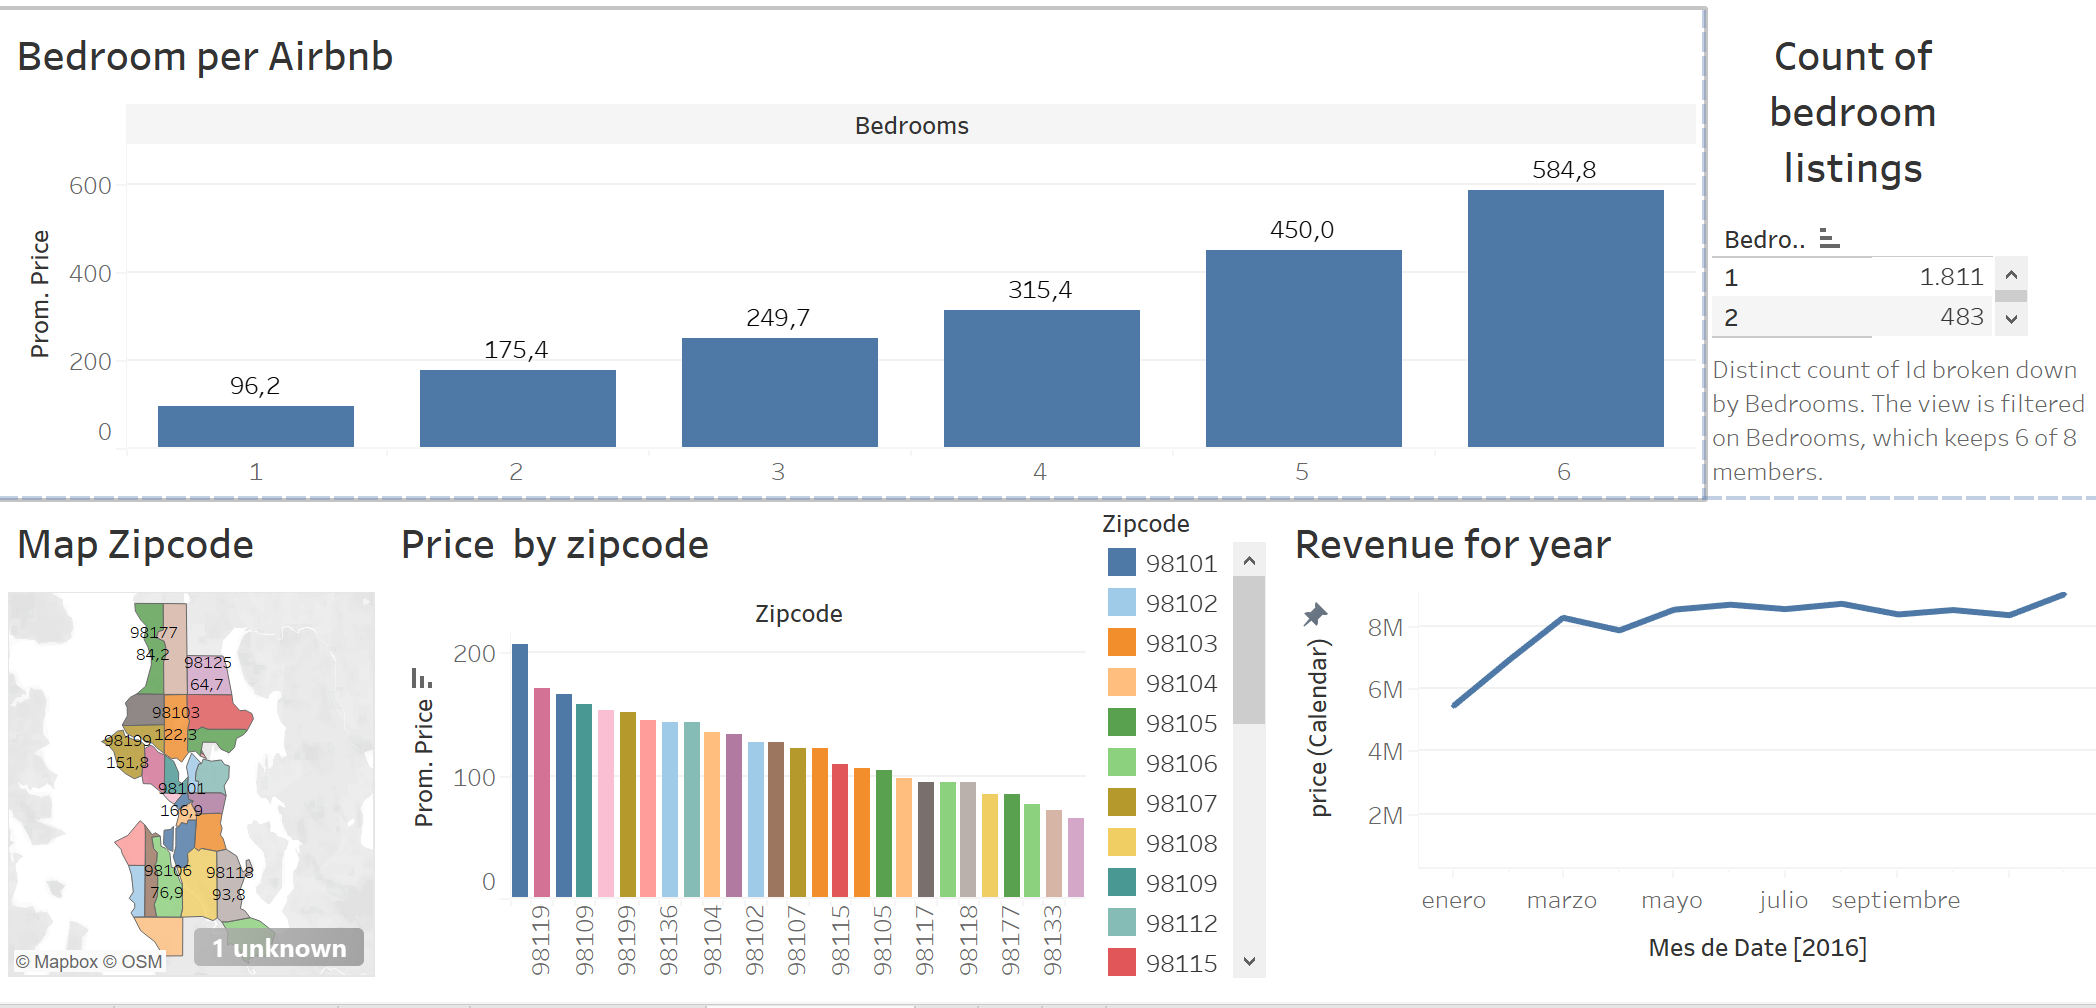

This screenshot's page, from the dashboard's own definition file:
{"tool":"tableau","page":{"name":"Dashboard 1","canvas":[1000,1000],"units":"permille","ordinal":0},"visuals":[{"type":"worksheet","title":"Bedroom","mark":"Automatic","rows":["price"],"cols":["bedrooms"],"box":[7.5,14.7,797,485.3]},{"type":"worksheet","title":"count of bedroom ","mark":"Automatic","rows":["bedrooms"],"box":[804.5,14.7,188,485.3]},{"type":"worksheet","title":"Map zipcode","mark":"Multipolygon","box":[7.5,500,179.8,485.3]},{"type":"worksheet","title":"Zipcode","mark":"Automatic","rows":["price"],"cols":["zipcode"],"box":[187.3,500,332,485.3]},{"type":"legend","title":"Zipcode","param":"[federated.12vifvw07g6nv713pga380i993qs].[none:zipcode:ok]","box":[519.3,500,86,485.3]},{"type":"worksheet","title":"Revenue per year","mark":"Automatic","rows":["price (Calendar)"],"cols":["date"],"box":[605.2,500,387.3,485.3]}]}

Visuals, with their boxes on the dashboard's canvas, which has no fixed pixel size, in thousandths of its width and height (x1, y1, x2, y2). These are canvas units, not pixel positions in the 2096x1008 screenshot, which may show the page scaled, cropped or inside an application window:
"Bedroom" worksheet: BBox(8, 15, 804, 500)
"count of bedroom " worksheet: BBox(804, 15, 992, 500)
"Map zipcode" worksheet (Multipolygon marks): BBox(8, 500, 187, 985)
"Zipcode" worksheet: BBox(187, 500, 519, 985)
"Zipcode" legend: BBox(519, 500, 605, 985)
"Revenue per year" worksheet: BBox(605, 500, 992, 985)
